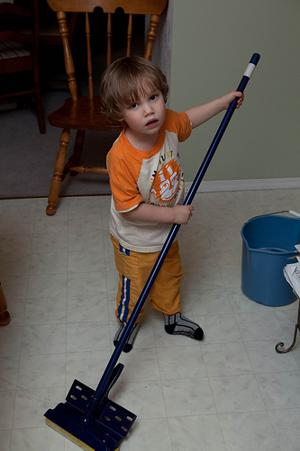person: (102, 55, 244, 353)
